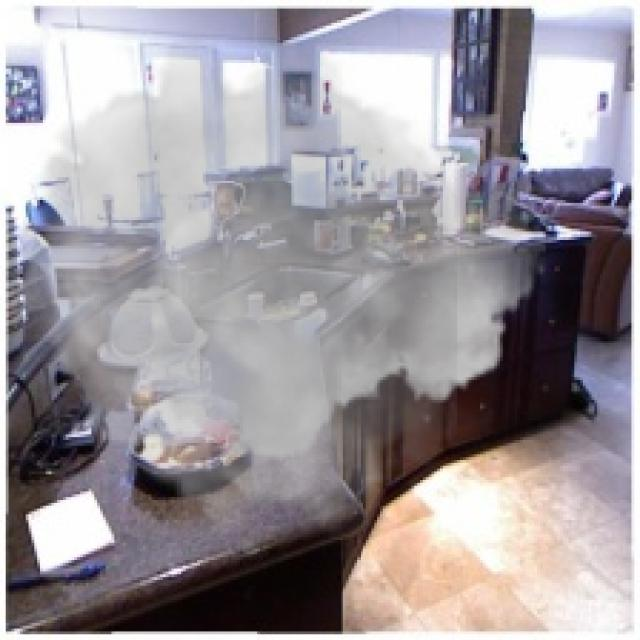smoke: (23, 34, 546, 554)
